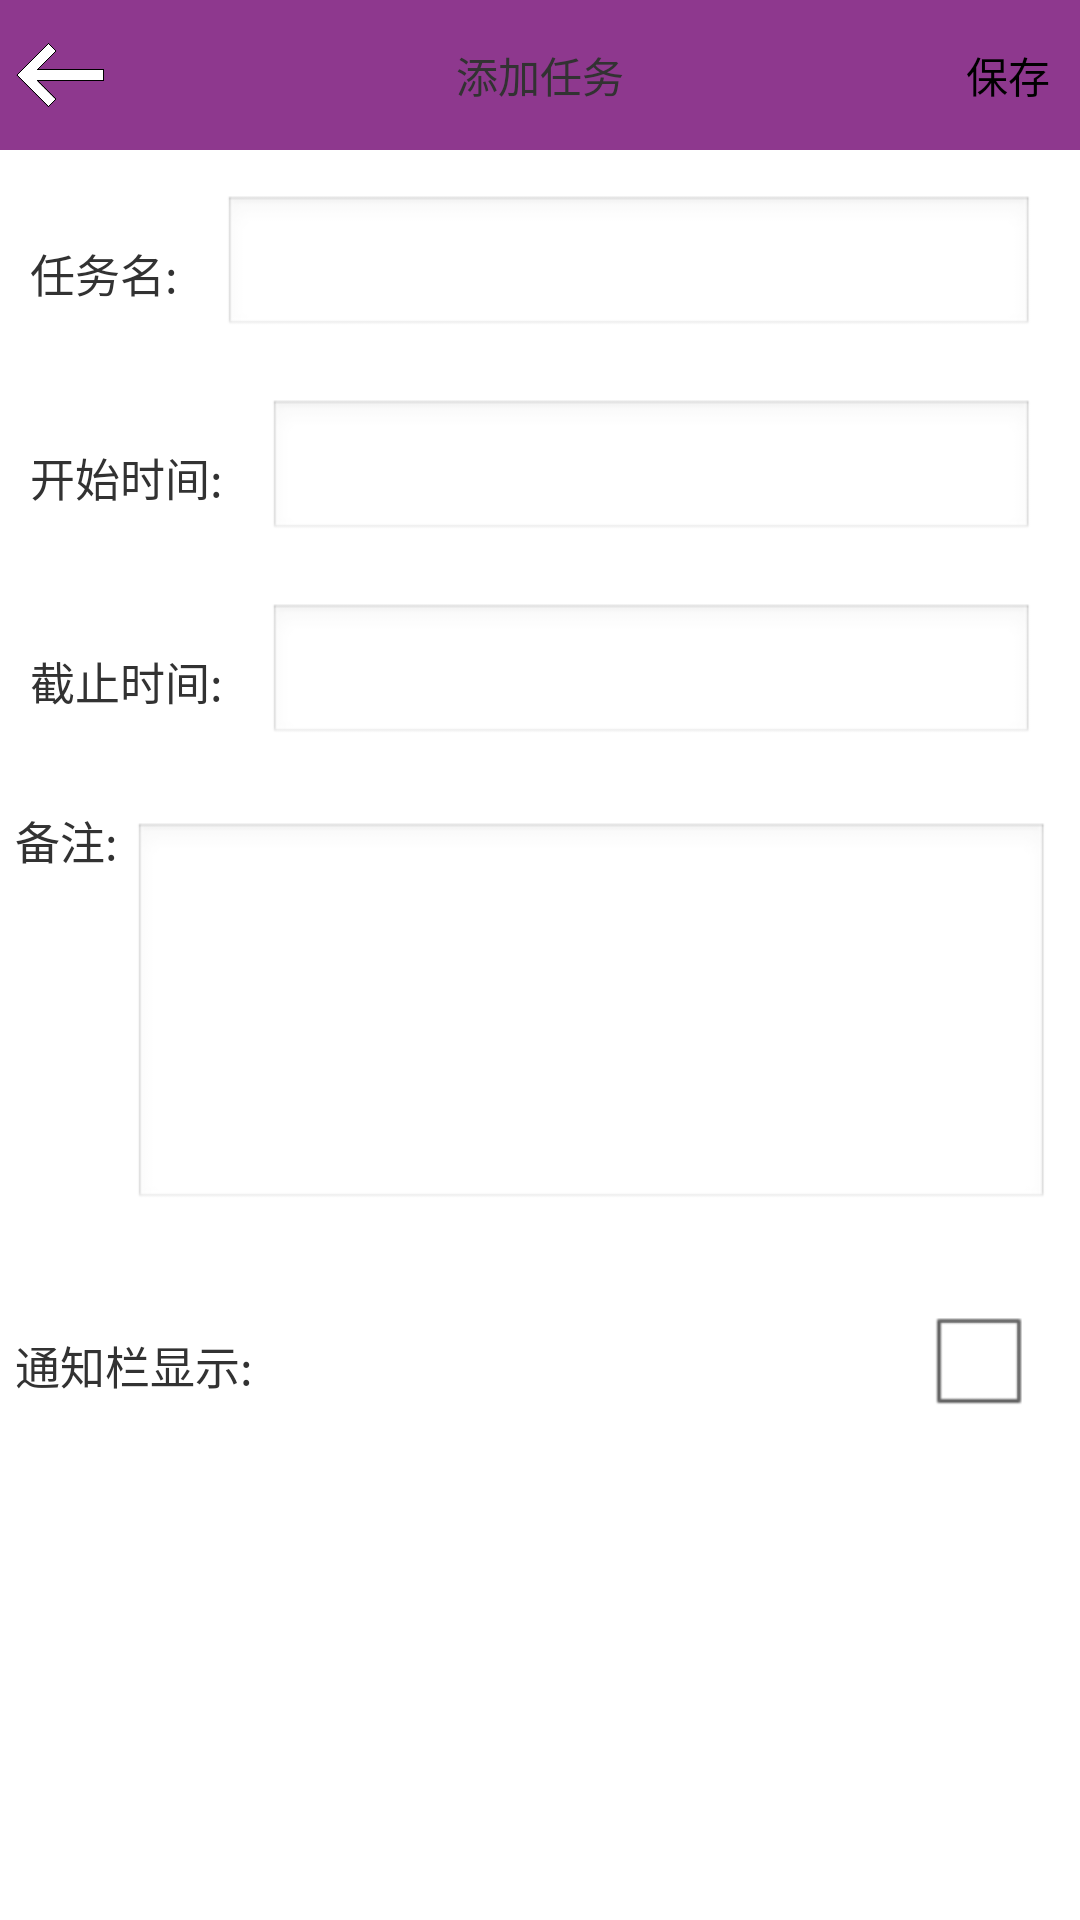

Icons on this 1080 × 1920 Android screen, each with its box as [left=x1, top=y1, right=x2, bottom=y2]:
widget bar back: [left=17, top=43, right=104, bottom=107]
